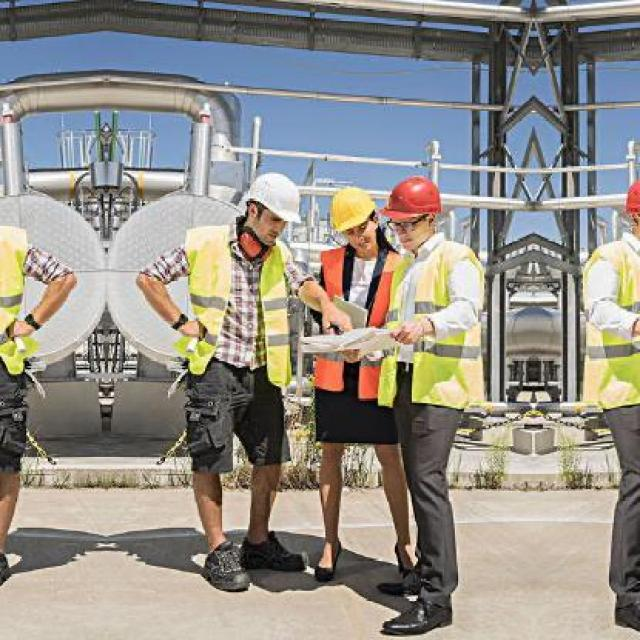Reflective-Jacket: (368, 238, 494, 414), (168, 229, 301, 394), (578, 237, 640, 414), (0, 217, 45, 381)
Safety-Helmet: (236, 166, 308, 229), (379, 169, 449, 226), (322, 180, 382, 238), (617, 169, 640, 229)
